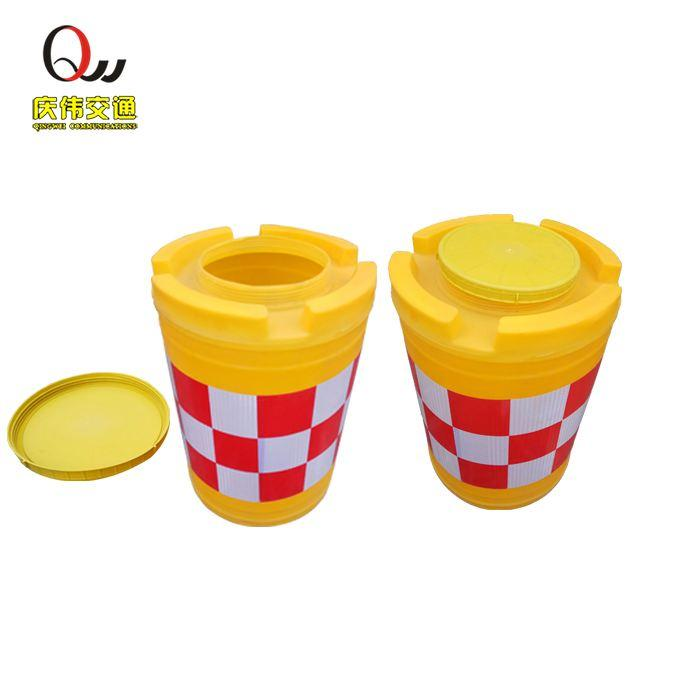sign: (147, 202, 383, 529), (392, 202, 617, 512)
